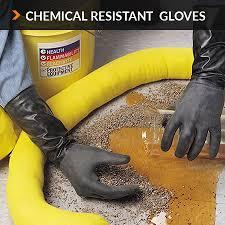gloves: (160, 79, 225, 162), (60, 143, 138, 200)
